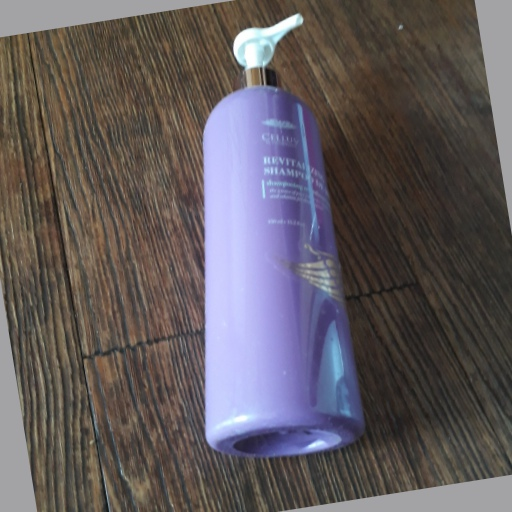Plastic_3: (198, 11, 362, 459)
